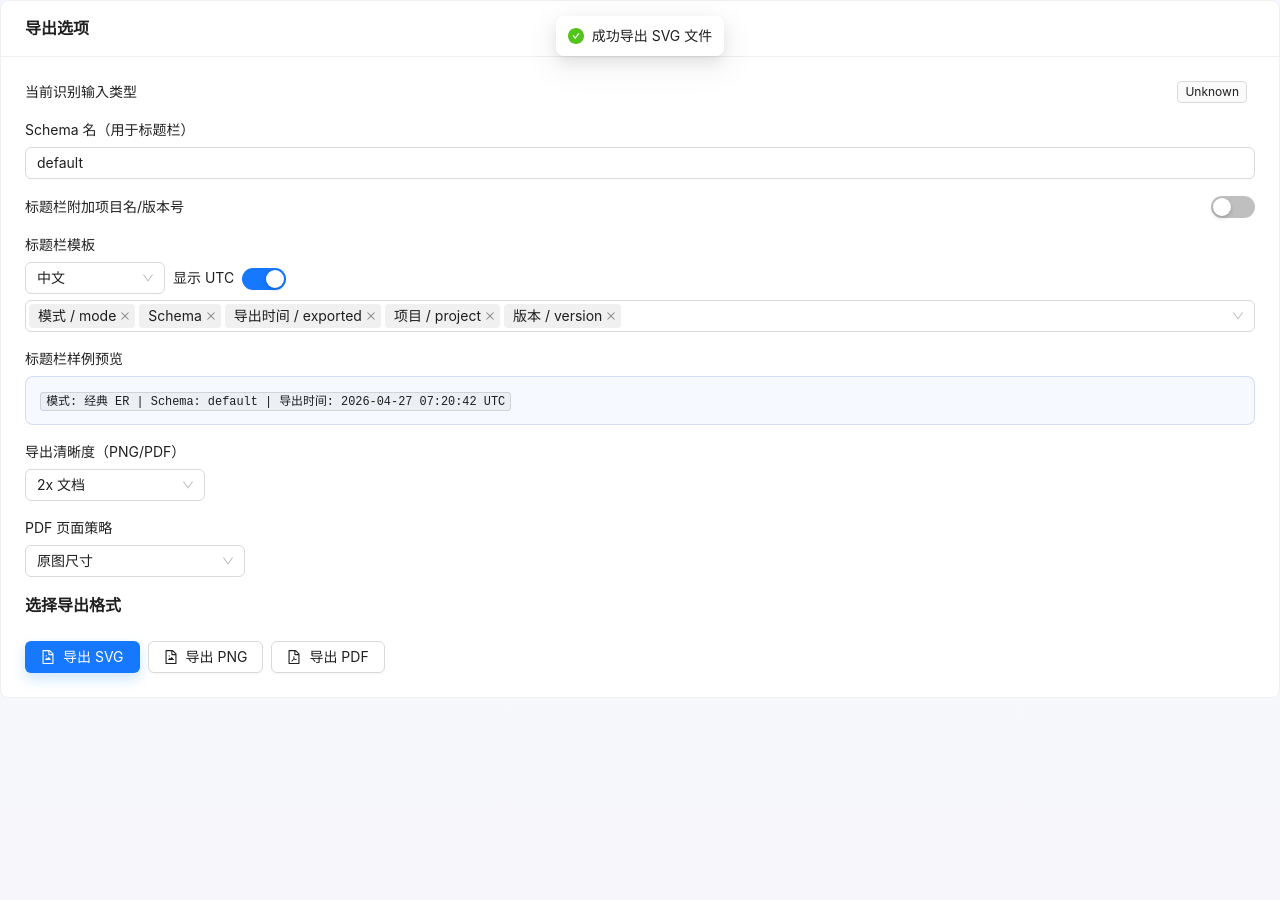
ExportPanel Component › shows error when no SQL is provided
Click the button "导出 SVG".
click(82, 657)  # box top-left (25, 641), bottom-right (140, 673)
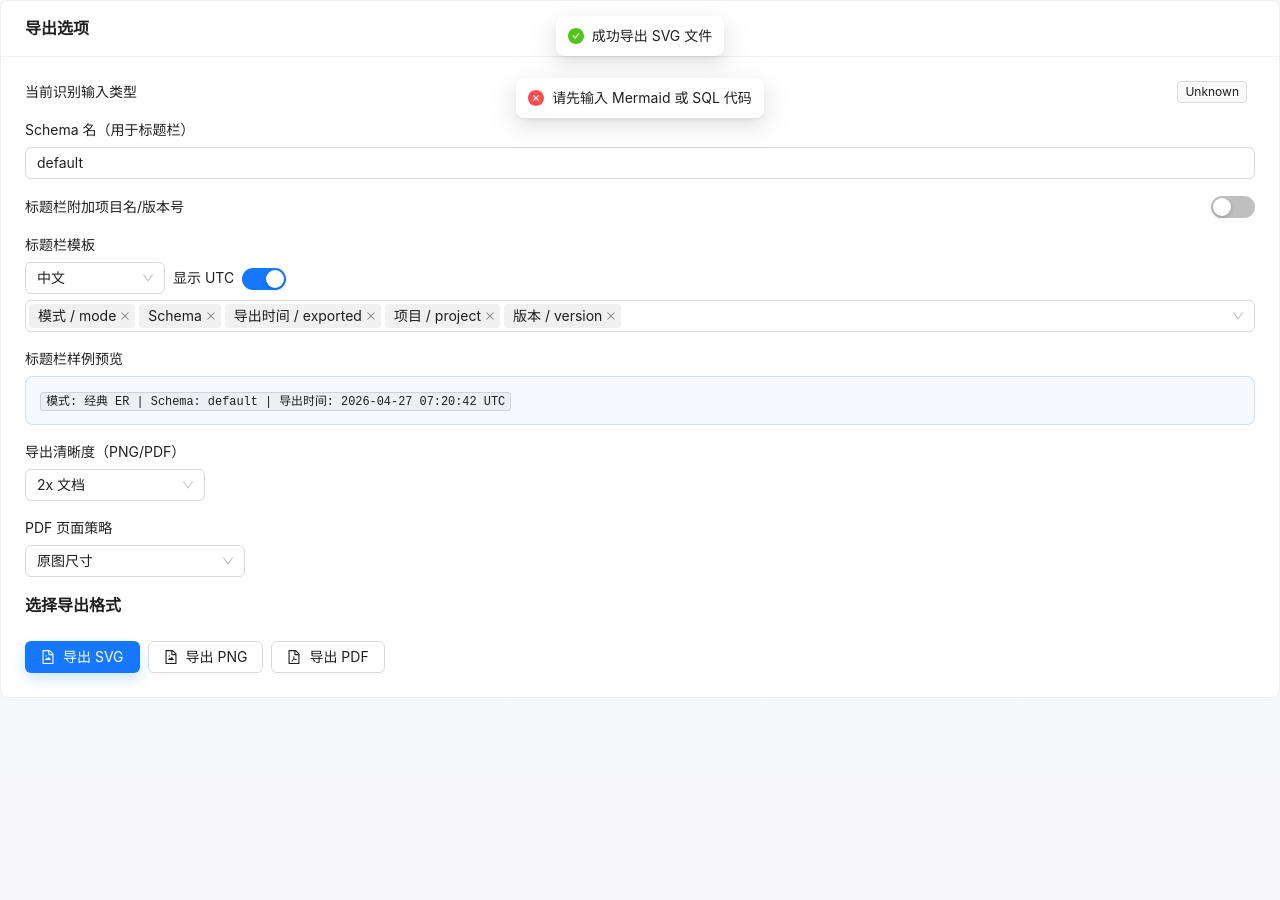
Check: the text "请先输入 Mermaid 或 SQL 代码" is shown, box top-left (552, 87), bottom-right (752, 109)
